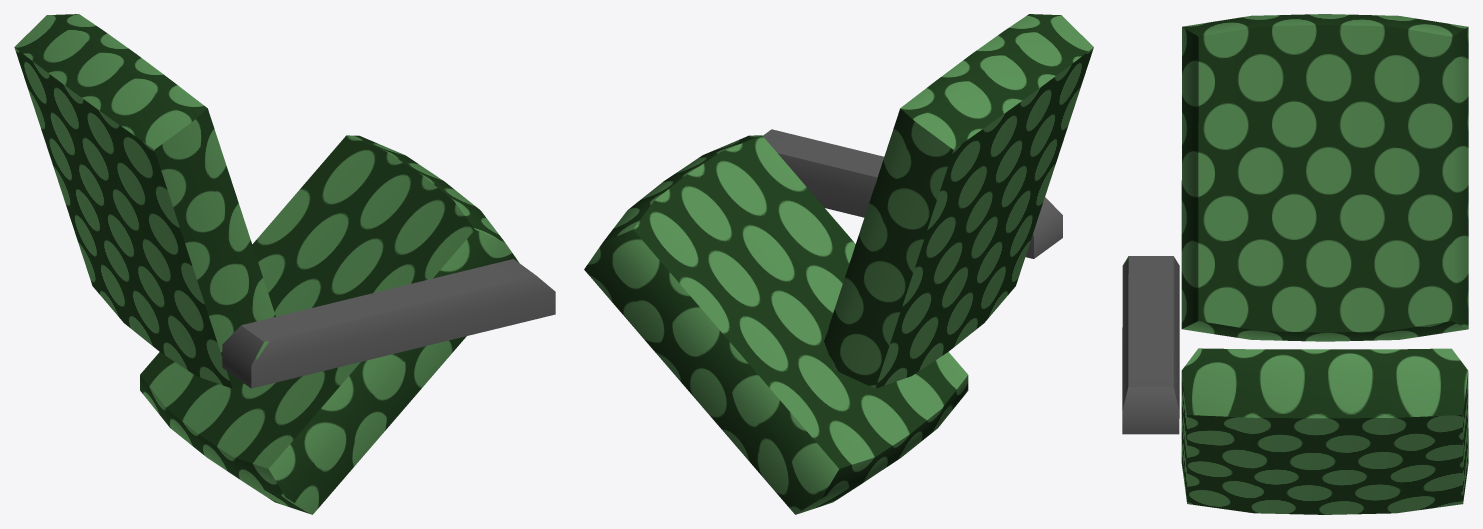
The model's file is m_theater_chair_high_r.fbx.
The picture shows the model from 3 angles, left to right: view 1: azimuth 30°, elevation 25°; view 2: azimuth 150°, elevation 25°; view 3: azimuth 270°, elevation 25°; orthographic projection.
Parts seen in each view (by area): view 1: SPROJ_Theater_Chairs1:polySurface35; view 2: SPROJ_Theater_Chairs1:polySurface35; view 3: SPROJ_Theater_Chairs1:polySurface35.
Boxes of the visible parts, left/top/right/bottom form: SPROJ_Theater_Chairs1:polySurface35: left=14, top=14, right=555, bottom=514; SPROJ_Theater_Chairs1:polySurface35: left=584, top=14, right=1093, bottom=514; SPROJ_Theater_Chairs1:polySurface35: left=1122, top=14, right=1468, bottom=514.
Size of the model in its own units: 10.15 by 11.1 by 7.89.
1 material, 1 textured.
